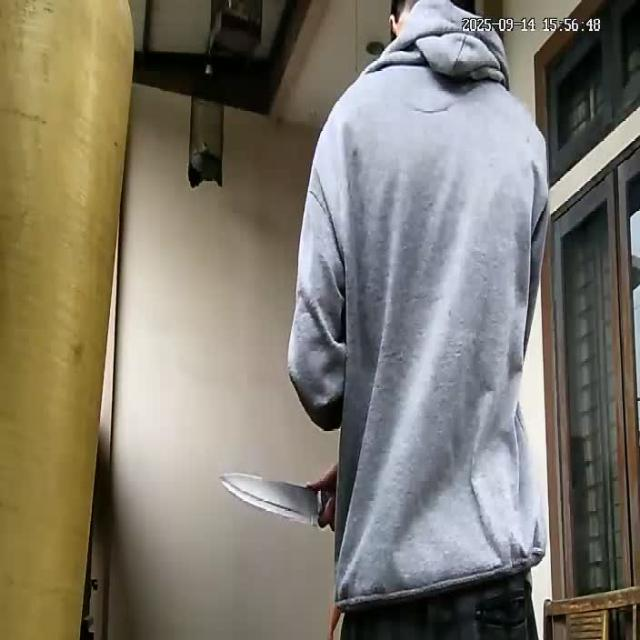senjata_tajam: (215, 472, 324, 528)
